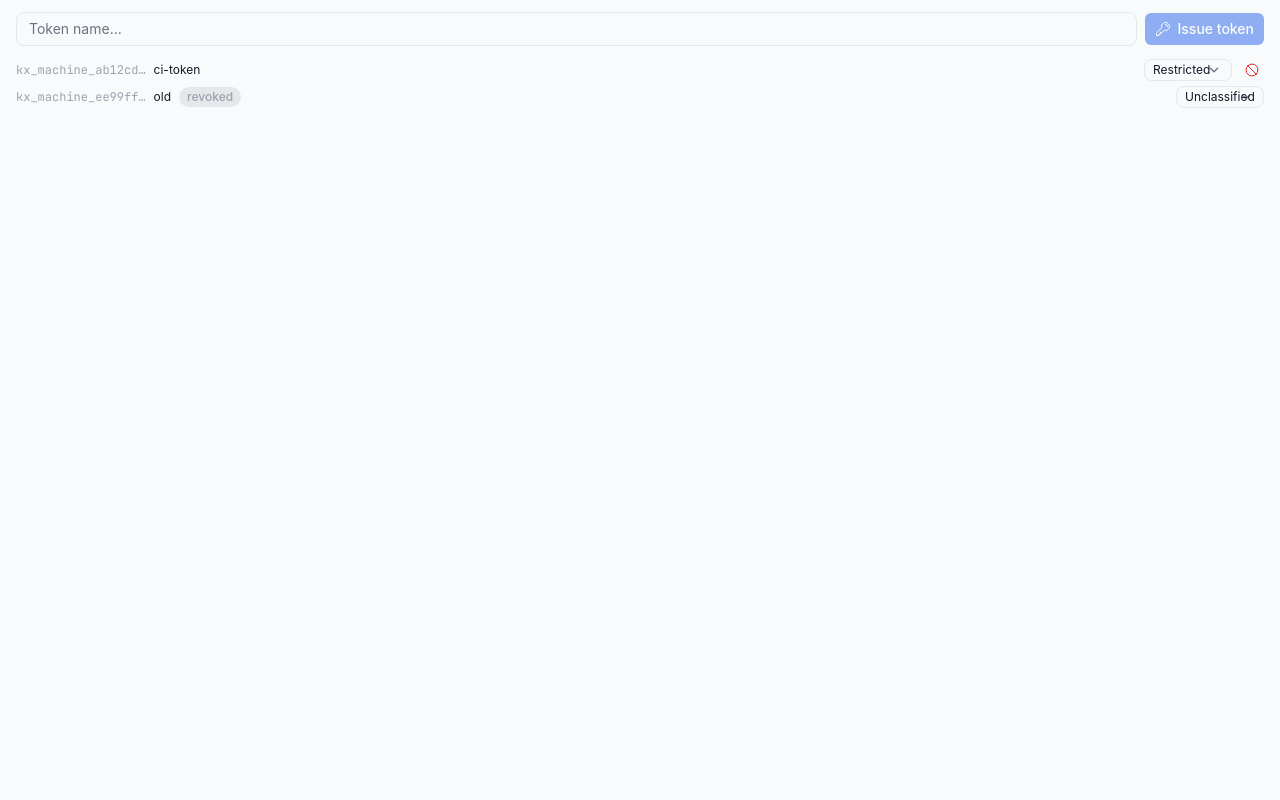
MachineTokensPanel › issues via the Enter key and shows the one-time token modal, then Copy + Done
Type "ci-deploy" into the field with placeholder "Token name…".
click(577, 29); type("ci-deploy")  # box [16,12,1138,46]
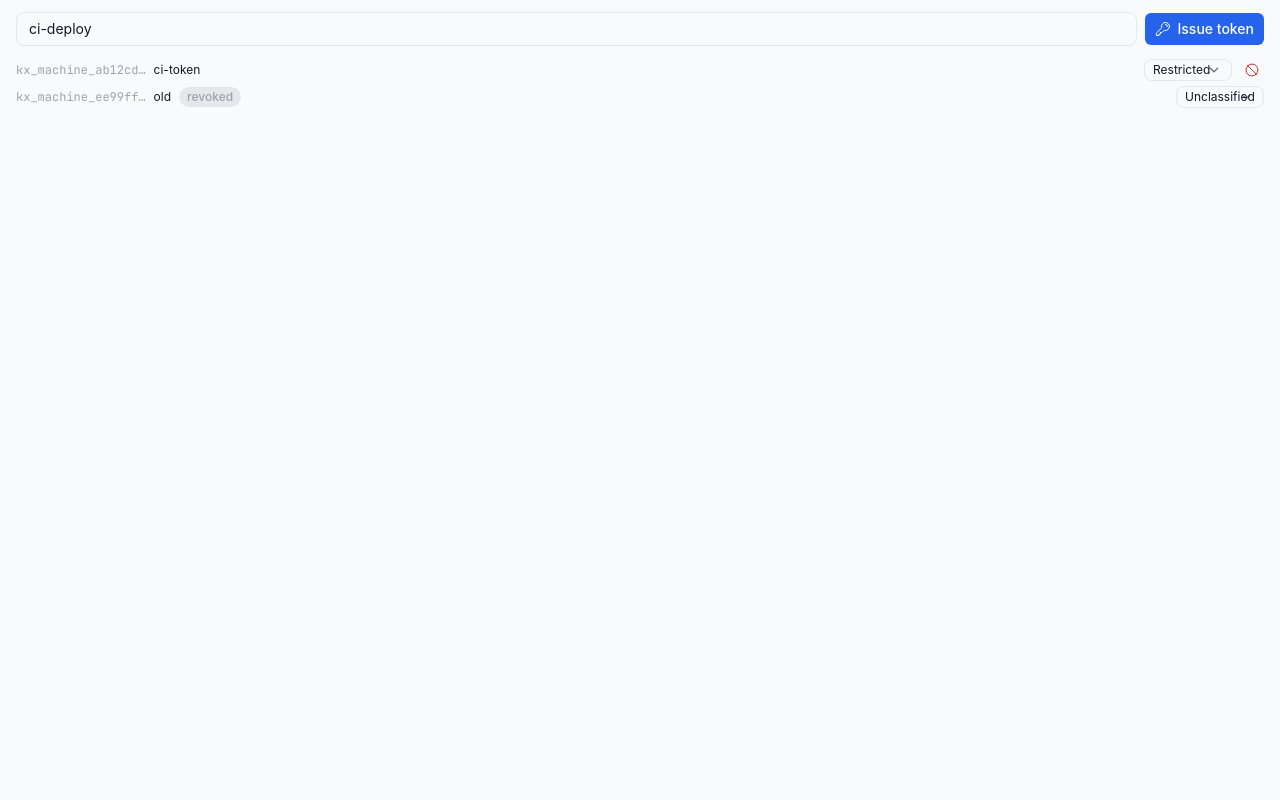
Press Enter in the field with placeholder "Token name…", box [16,12,1138,46]
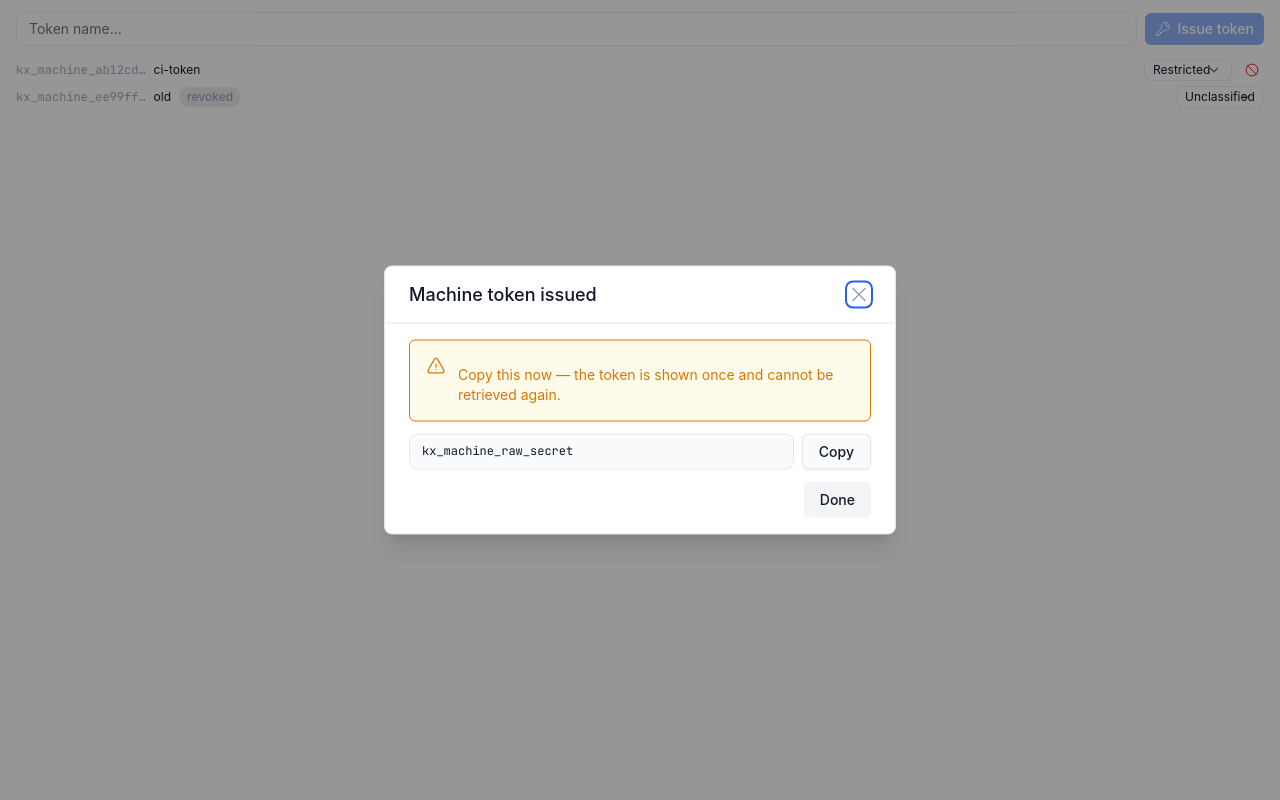
Expected: the heading "Machine token issued" is shown, [409,282,597,306]
Expected: the text "kx_machine_raw_secret" is shown, [409,434,794,470]
Expected: the field with placeholder "Token name…" is empty, [16,12,1138,46]
Click the button "Copy".
click(836, 452)  # box [802,434,871,470]
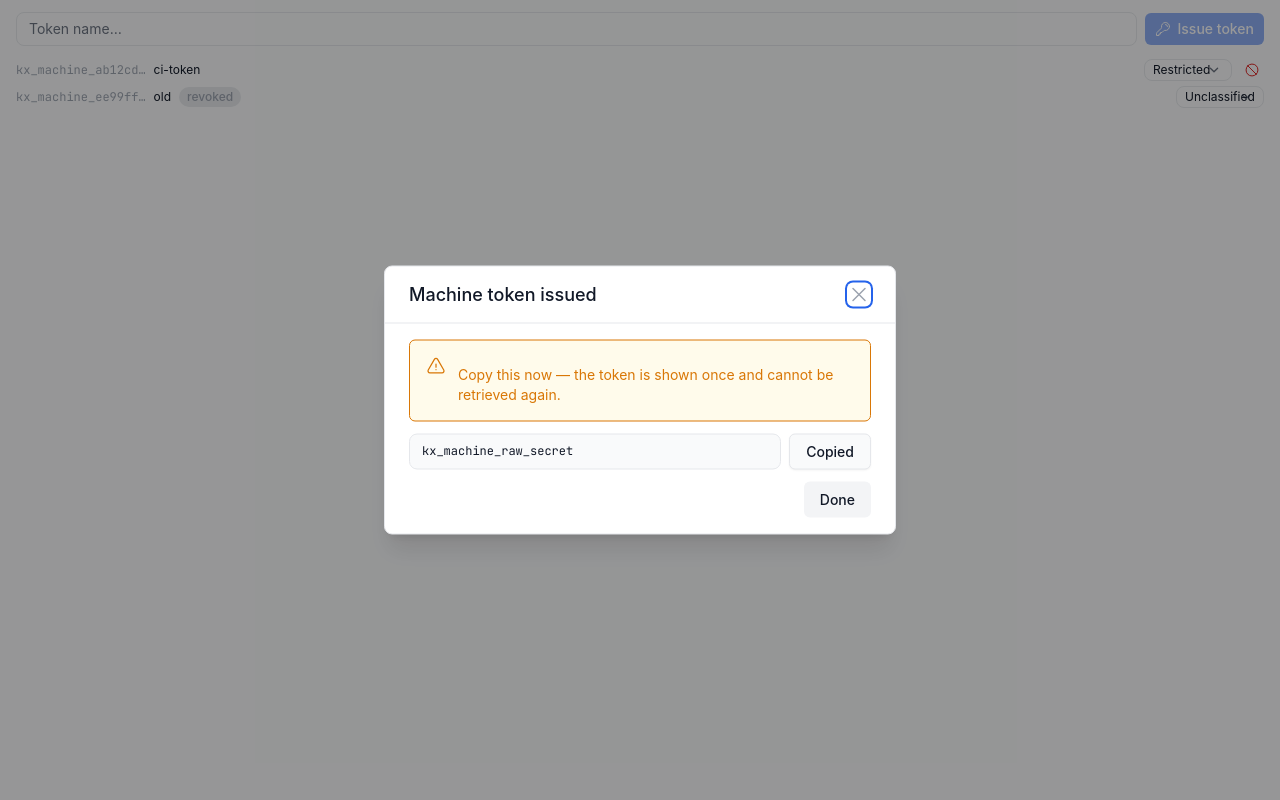
Expected: the button "Copied" is shown, [789,434,871,470]
Click the button "Done".
click(837, 500)  # box [804,482,871,518]
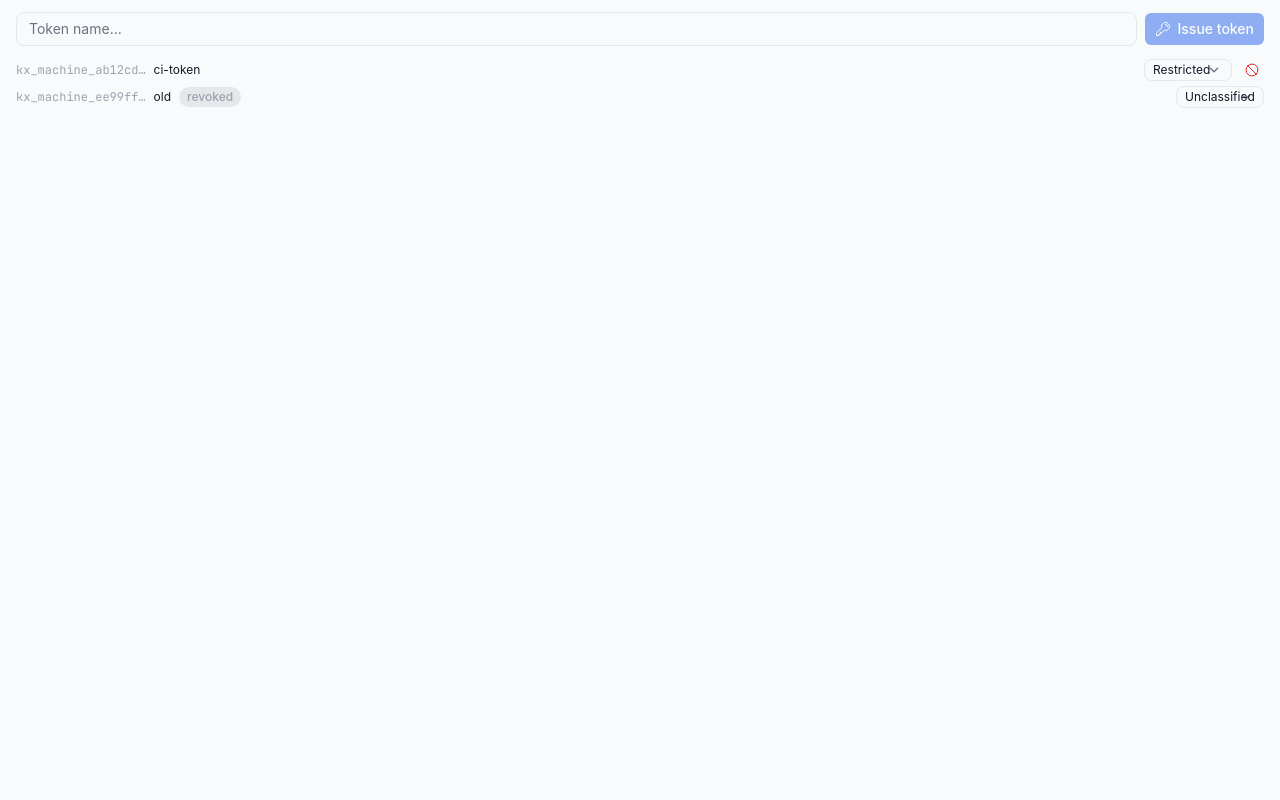
Expected: the heading "Machine token issued" is gone
